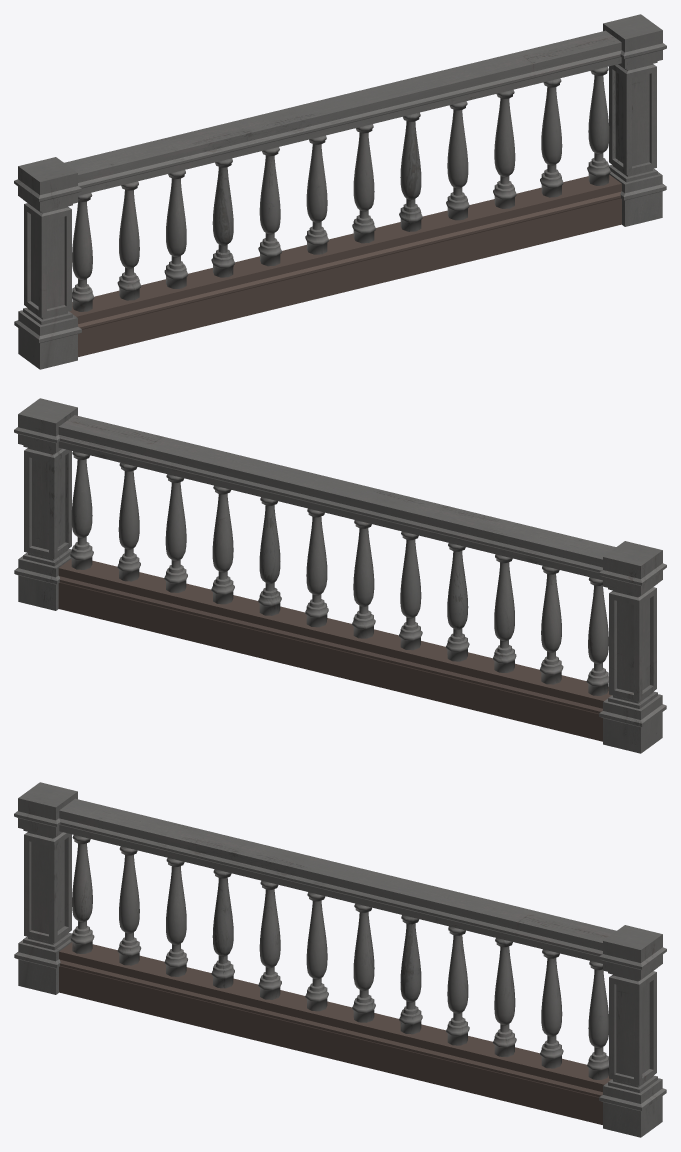
Rendered from SK4 RAILING LONG.fbx.
The picture shows the model from 3 angles, top to bottom: view 1: azimuth 30°, elevation 25°; view 2: azimuth 150°, elevation 25°; view 3: azimuth 330°, elevation 25°; orthographic projection.
Visible parts, largest first — view 1: SK4 RAILING LONG; view 2: SK4 RAILING LONG; view 3: SK4 RAILING LONG.
Part boxes in pixels (x1=…): SK4 RAILING LONG: x1=14, y1=14, x2=666, y2=369; SK4 RAILING LONG: x1=14, y1=398, x2=666, y2=753; SK4 RAILING LONG: x1=14, y1=782, x2=666, y2=1137.
Size of the model in its own units: 399 by 114 by 27.43.
